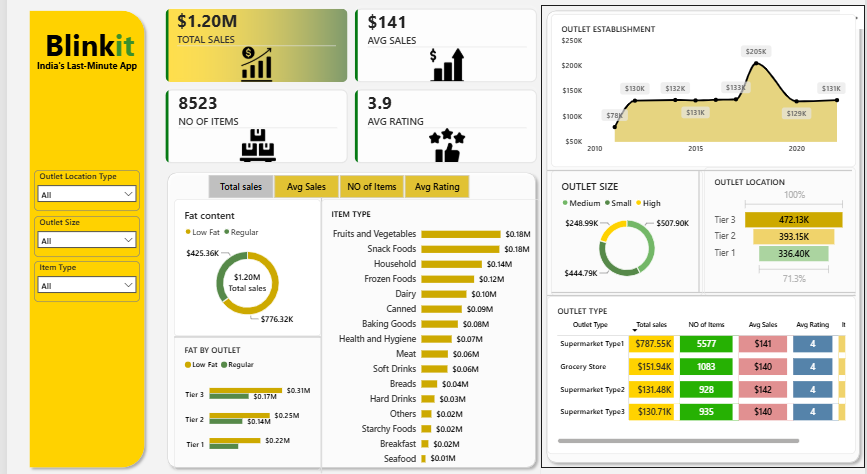

The page's visual inventory and layout, read from the dashboard file:
{"tool":"powerbi","page":{"name":"Page 1","canvas":[1400,800],"ordinal":0},"visuals":[{"type":"shape","box":[27.6,25.7,205.8,764.3],"z":0},{"type":"textbox","box":[49.6,57,183.7,73.5],"z":1000},{"type":"textbox","box":[49.6,113.9,183.7,33.1],"z":2000},{"type":"cardVisual","fields":{"Data":["Measures (2).Total sales","Measures (2).Avg Sales","Measures (2).NO of Items","Measures (2).Avg Rating"]},"box":[253.1,26.1,618.8,264.5],"z":3000},{"type":"shape","box":[253.5,290.3,619.2,499.7],"z":4000},{"type":"donutChart","title":"Fat content","fields":{"Category":["BlinkIT Grocery Data.Item Fat Content"],"Y":["Measures (2).Total sales"]},"box":[272.7,342.9,240,225.3],"z":5000},{"type":"slicer","fields":{"Values":["Metrics.Metrics"]},"box":[308.6,302,465.3,40.8],"z":6000},{"type":"cardVisual","fields":{"Data":["Measures (2).Total sales"]},"box":[347.8,455.5,89.8,45.7],"z":7000},{"type":"clusteredBarChart","title":"FAT BY OUTLET","fields":{"Category":["BlinkIT Grocery Data.Outlet Location Type"],"Series":["BlinkIT Grocery Data.Item Fat Content"],"Y":["Measures (2).Total sales"]},"box":[272.7,564.9,240,222],"z":8000},{"type":"shape","box":[499.6,339.6,27.8,450.6],"z":9000},{"type":"shape","box":[272.7,553.5,240,29.4],"z":10000},{"type":"barChart","title":"ITEM TYPE","fields":{"Category":["BlinkIT Grocery Data.Item Type"],"Y":["Measures (2).Total sales"]},"box":[512.7,342.9,359.2,457.1],"z":11000},{"type":"shape","box":[871.8,26.1,529,755.9],"z":12000},{"type":"lineChart","title":"OUTLET ESTABLISHMENT","fields":{"Category":["BlinkIT Grocery Data.Outlet Establishment Year"],"Y":["Measures (2).Total sales"]},"box":[888.2,40.8,498,249.8],"z":13000},{"type":"shape","box":[888.2,489.8,498,11.4],"z":14000},{"type":"donutChart","title":"OUTLET SIZE","fields":{"Category":["BlinkIT Grocery Data.Outlet Size"],"Y":["Measures (2).Total sales"]},"box":[888.2,295.5,248.2,205.7],"z":15000},{"type":"shape","box":[1123.3,295.5,13.1,200.8],"z":16000},{"type":"funnel","title":"OUTLET LOCATION","fields":{"Category":["BlinkIT Grocery Data.Outlet Location Type"],"Y":["Sum(BlinkIT Grocery Data.Sales)"]},"box":[1138,290.6,248.2,210.6],"z":17000},{"type":"shape","box":[881.6,290.6,498,11.4],"z":18000},{"type":"pivotTable","title":"OUTLET TYPE","fields":{"Rows":["BlinkIT Grocery Data.Outlet Type"],"Values":["Measures (2).Total sales","Measures (2).NO of Items","Measures (2).Avg Sales","Measures (2).Avg Rating","Avg(BlinkIT Grocery Data.Item Visibility)"]},"box":[881.6,501.2,504.5,258],"z":19000},{"type":"shape","box":[881.6,489.8,504.5,21.2],"z":20000},{"type":"slicer","fields":{"Values":["BlinkIT Grocery Data.Outlet Location Type"]},"box":[44.1,295.5,173.1,66.9],"z":21000},{"type":"slicer","fields":{"Values":["BlinkIT Grocery Data.Outlet Size"]},"box":[44.1,370.6,173.1,66.9],"z":22000},{"type":"slicer","fields":{"Values":["BlinkIT Grocery Data.Item Type"]},"box":[44.1,444.1,173.1,66.9],"z":22001}]}

Visuals, with their boxes on the page's 1400x800 design canvas (x1, y1, x2, y2). These are canvas units, not pixel positions in the 867x474 screenshot, which may show the page scaled, cropped or inside an application window:
shape: (x1=28, y1=26, x2=233, y2=790)
textbox: (x1=50, y1=57, x2=233, y2=130)
textbox: (x1=50, y1=114, x2=233, y2=147)
cardVisual - Measures (2).Total sales x Measures (2).Avg Sales: (x1=253, y1=26, x2=872, y2=291)
shape: (x1=254, y1=290, x2=873, y2=790)
"Fat content" donutChart: (x1=273, y1=343, x2=513, y2=568)
slicer - Metrics.Metrics: (x1=309, y1=302, x2=774, y2=343)
cardVisual - Measures (2).Total sales: (x1=348, y1=456, x2=438, y2=501)
"FAT BY OUTLET" clusteredBarChart: (x1=273, y1=565, x2=513, y2=787)
shape: (x1=500, y1=340, x2=527, y2=790)
shape: (x1=273, y1=554, x2=513, y2=583)
"ITEM TYPE" barChart: (x1=513, y1=343, x2=872, y2=800)
shape: (x1=872, y1=26, x2=1401, y2=782)
"OUTLET ESTABLISHMENT" lineChart: (x1=888, y1=41, x2=1386, y2=291)
shape: (x1=888, y1=490, x2=1386, y2=501)
"OUTLET SIZE" donutChart: (x1=888, y1=296, x2=1136, y2=501)
shape: (x1=1123, y1=296, x2=1136, y2=496)
"OUTLET LOCATION" funnel: (x1=1138, y1=291, x2=1386, y2=501)
shape: (x1=882, y1=291, x2=1380, y2=302)
"OUTLET TYPE" pivotTable: (x1=882, y1=501, x2=1386, y2=759)
shape: (x1=882, y1=490, x2=1386, y2=511)
slicer - BlinkIT Grocery Data.Outlet Location Type: (x1=44, y1=296, x2=217, y2=362)
slicer - BlinkIT Grocery Data.Outlet Size: (x1=44, y1=371, x2=217, y2=438)
slicer - BlinkIT Grocery Data.Item Type: (x1=44, y1=444, x2=217, y2=511)
